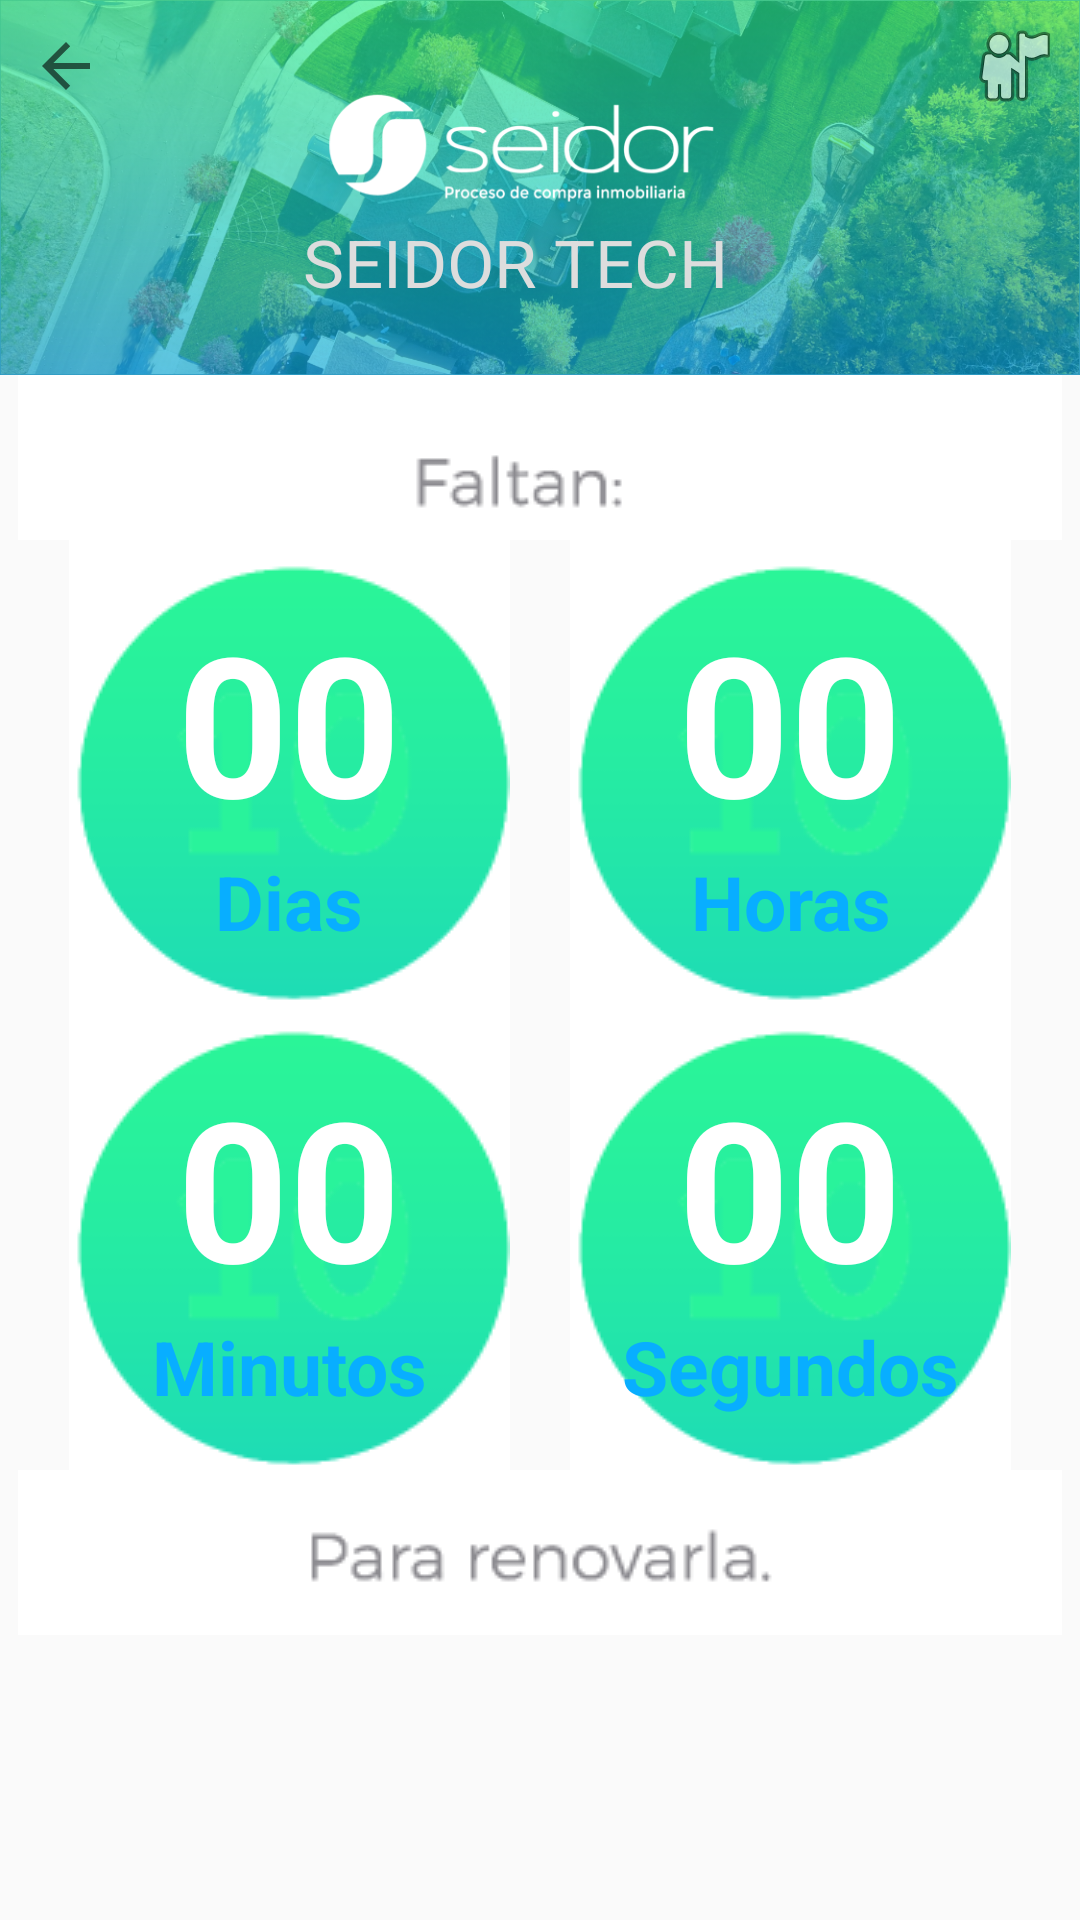

Icons on this 1080w x 1920h Android screen, each with its box as (x1, y1, x2, y2):
myplaces: (978, 30, 1050, 102)
